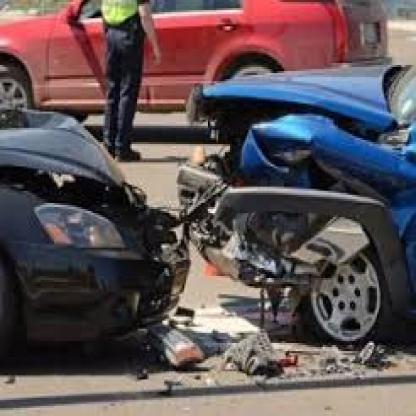accident: (0, 71, 416, 391)
